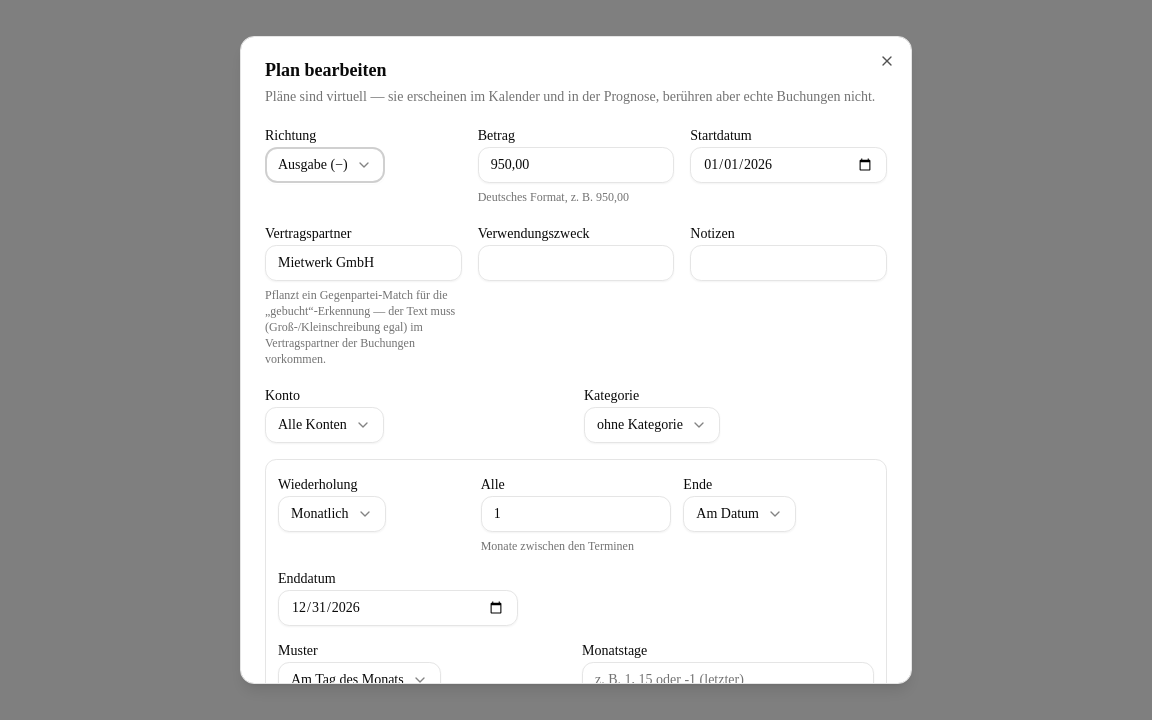
Test: plan dialog: invalid builder input must not crash the page › an incomplete 'Am Datum' end condition is an error, not a silently unbounded rule
Clear the date field labelled "Enddatum": (398, 608) left=278, top=590, right=518, bottom=626
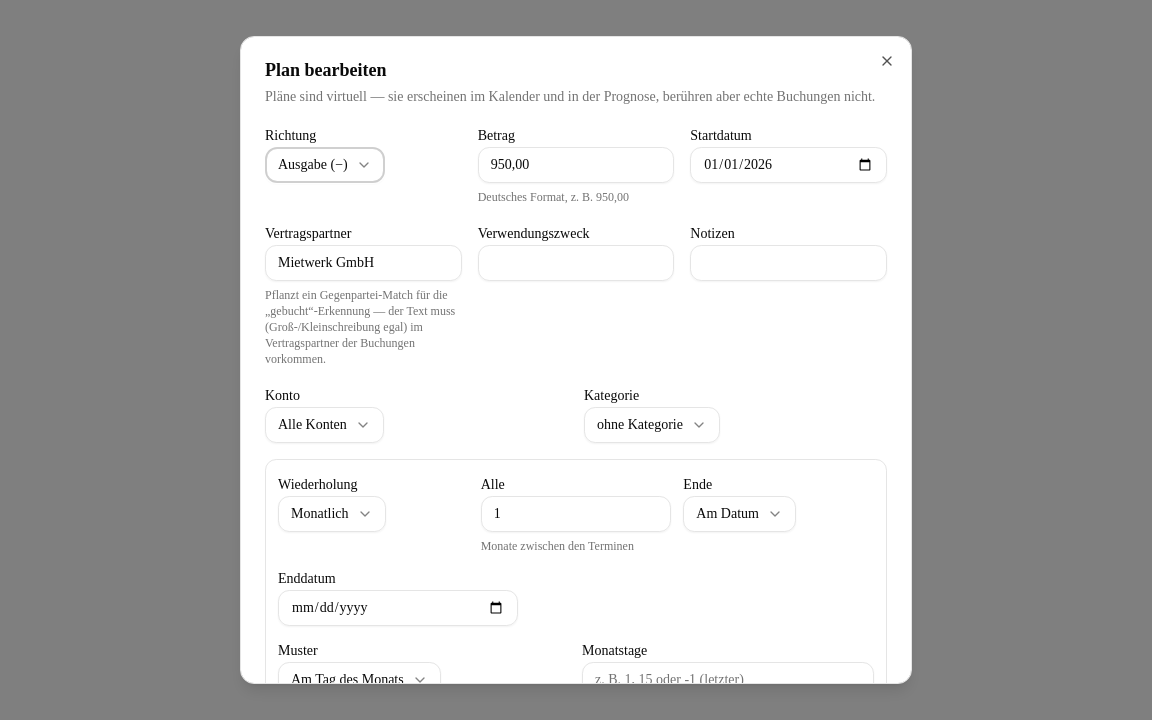
// re-entering a date clears the error and re-enables the dialog
In the date field labelled "Enddatum": (398, 608) left=278, top=590, right=518, bottom=626, type "2026-12-31"
(page scrolled)
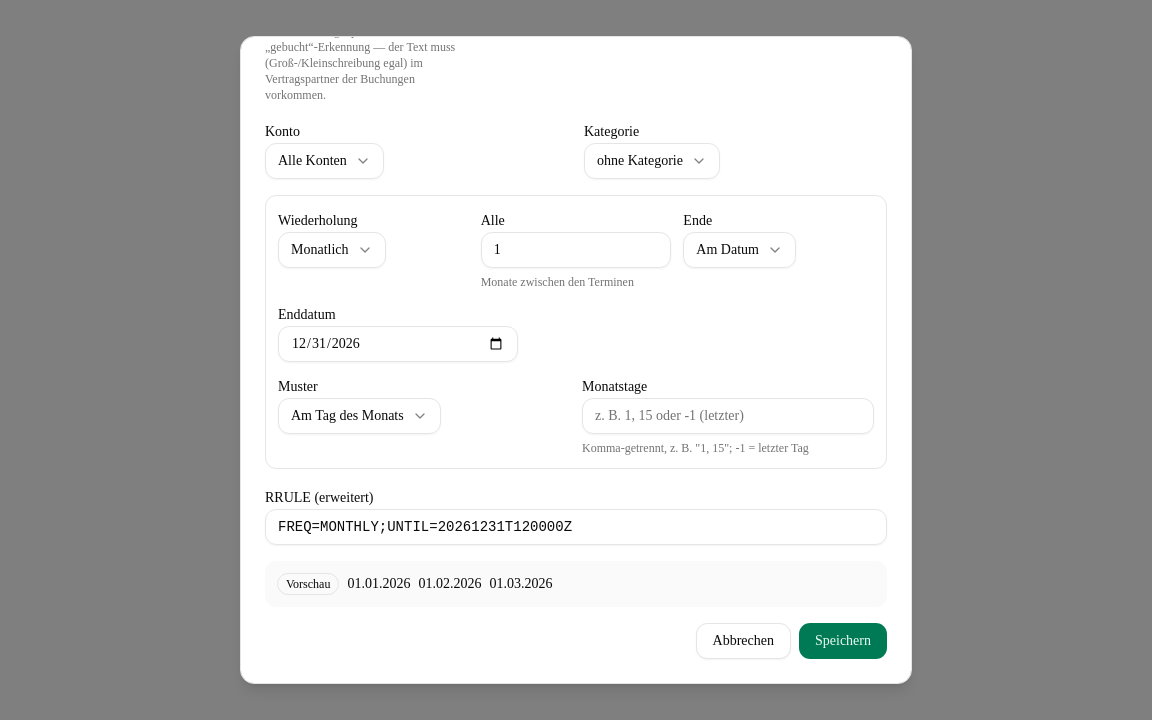
Check: the button "Speichern" is enabled, box left=799, top=623, right=887, bottom=659
